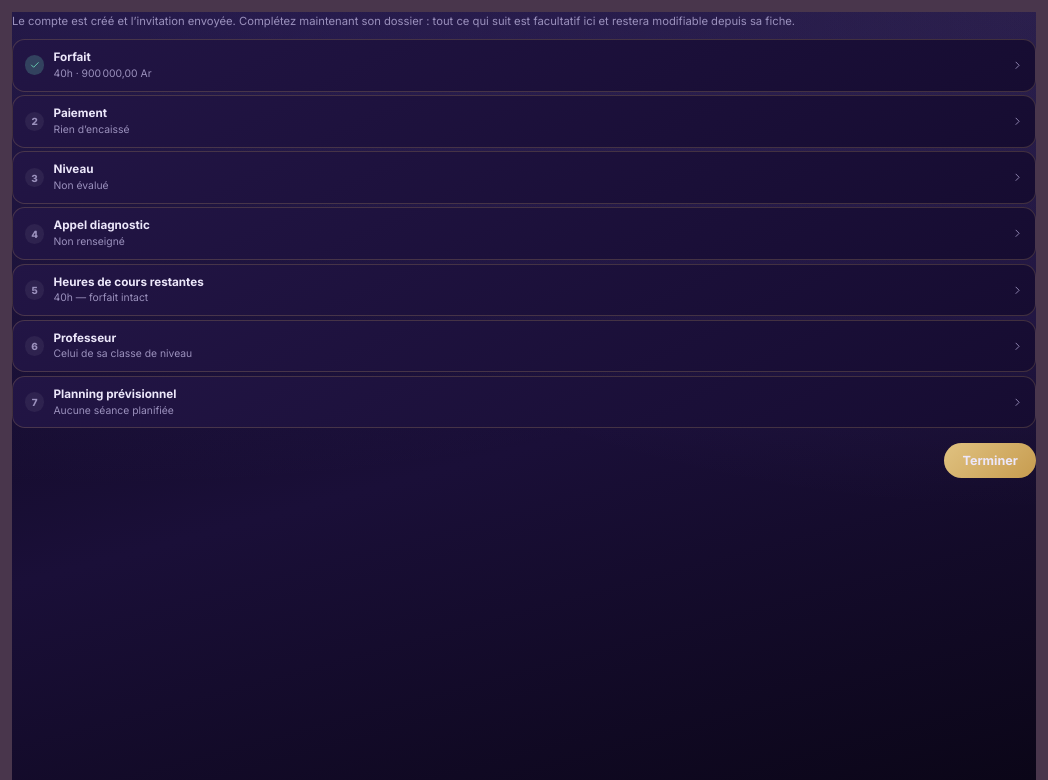
Test case: CompleterDossierEtudiant › renvoie le collectif vers Cours collectifs pour le forfait et le planning
This screenshot has width=1048, height=780.
What coordinates should you click on to do the following:
click the button "Forfait 40h · 900 000,00 Ar"
I would click on:
 (72, 57)
Its box is [13,40,1035,91].
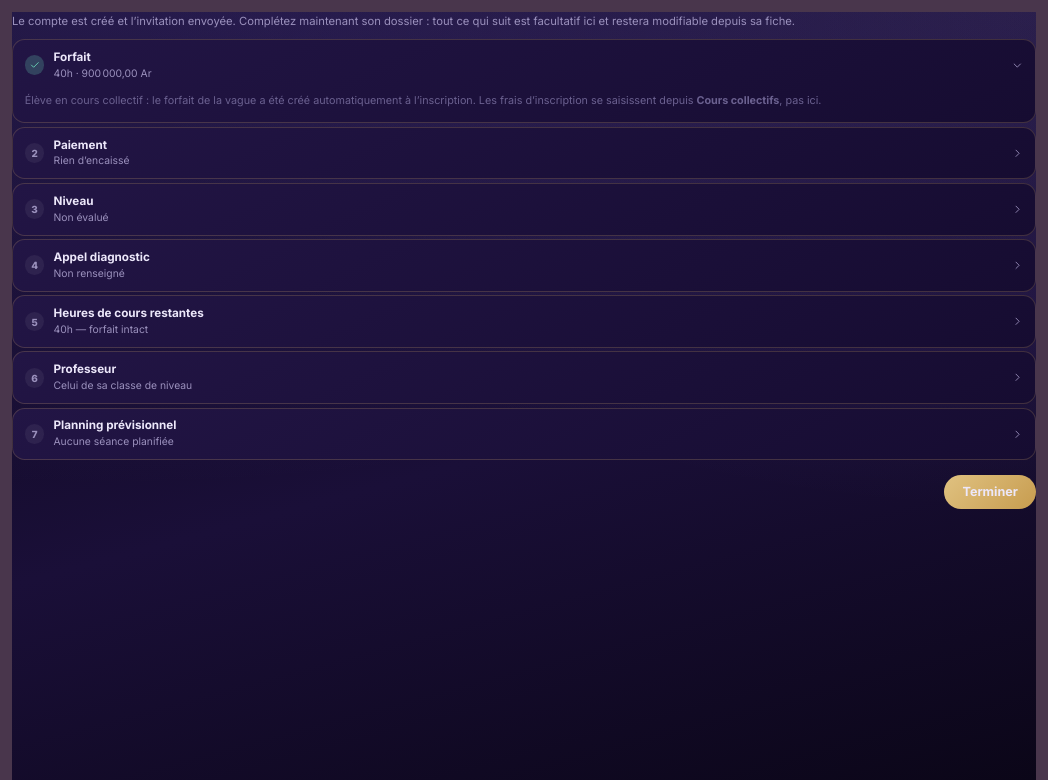
expect the text "le forfait de la vague a été créé automatiquement" is shown: met, box [25,94,696,107]
What coordinates should you click on to do the following:
click the button "7 Planning prévisionnel Aucune séance planifiée"
I would click on:
 (115, 425)
Its box is [13,409,1035,459].
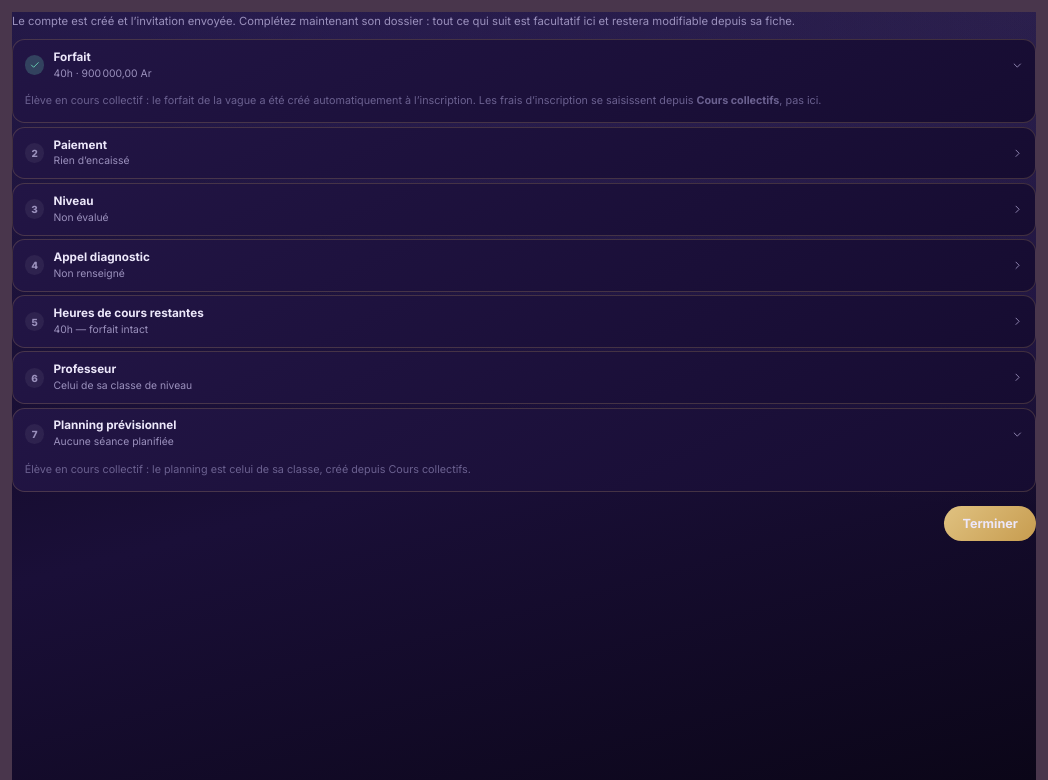
expect the text "le planning est celui de sa classe" is shown: met, box [25,463,471,476]
